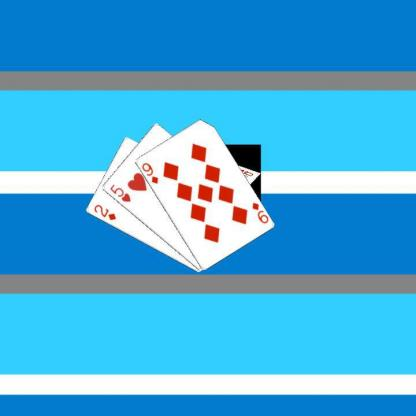2D: (92, 202, 118, 221)
5H: (107, 182, 132, 204)
9D: (138, 160, 160, 185), (249, 200, 269, 225)
